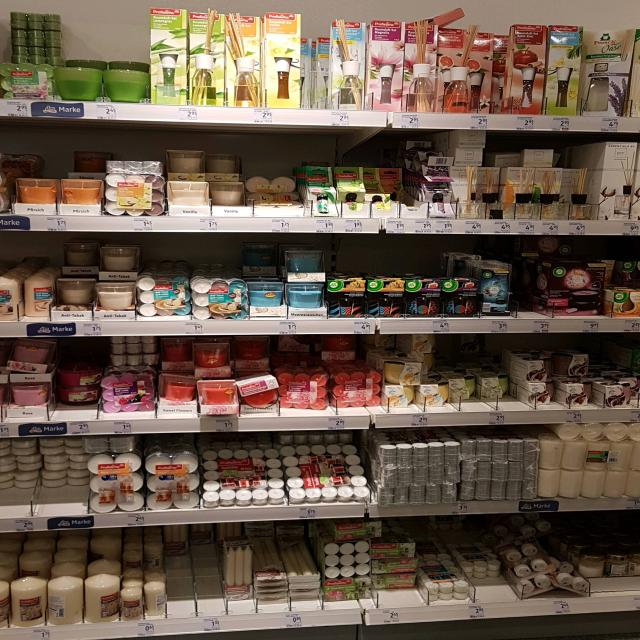empty: (510, 259, 545, 321), (198, 529, 222, 618)
